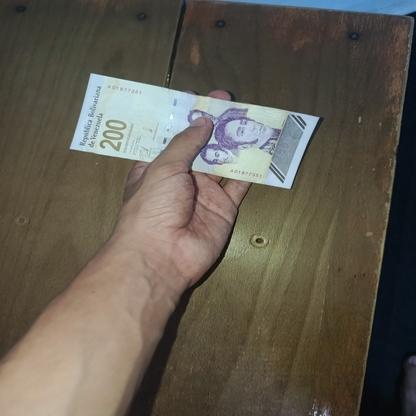vef_front: (70, 70, 320, 190)
